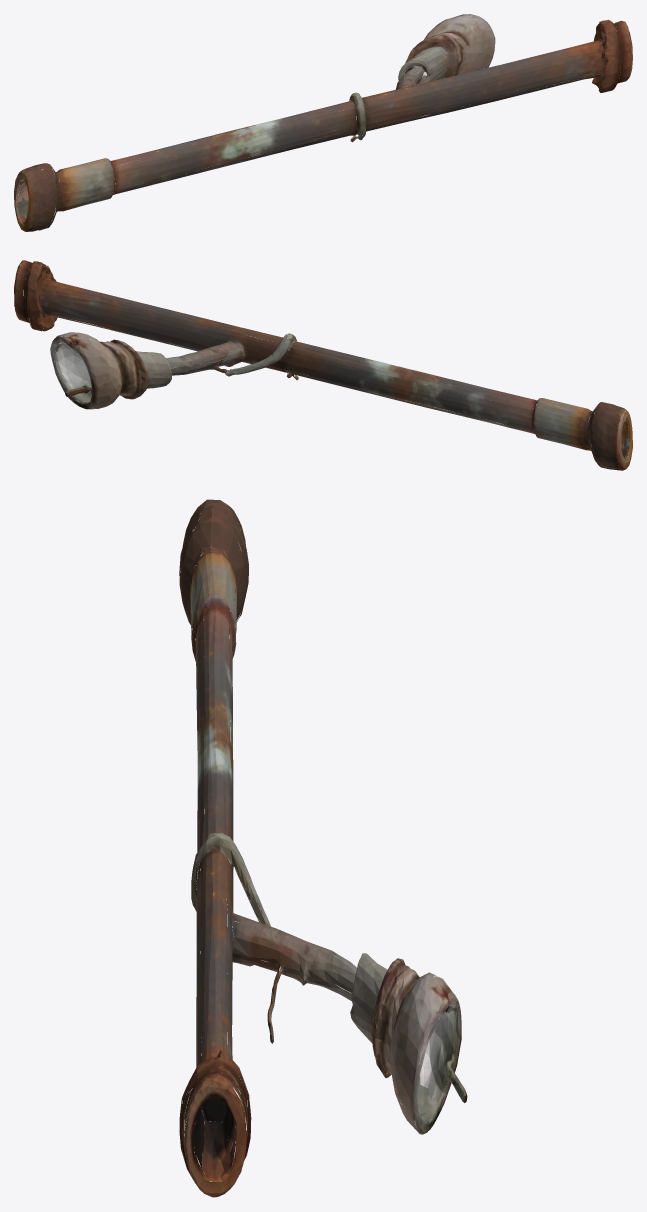
Rendered from fallen-lamp-post.glb.
3 views of the same model, one above another, from view 1: azimuth 30°, elevation 25°; view 2: azimuth 150°, elevation 25°; view 3: azimuth 270°, elevation 25° (orthographic). The views are drawn at different scales.
Visible parts, largest first — view 1: tmprbhn4zpq.ply; view 2: tmprbhn4zpq.ply; view 3: tmprbhn4zpq.ply.
Boxes of the visible parts, x1=… form: tmprbhn4zpq.ply: x1=14, y1=14, x2=632, y2=231; tmprbhn4zpq.ply: x1=14, y1=260, x2=632, y2=470; tmprbhn4zpq.ply: x1=179, y1=499, x2=467, y2=1197.
Size of the model in its own units: 6 by 0.7998 by 1.24.
1 material, 1 textured.
